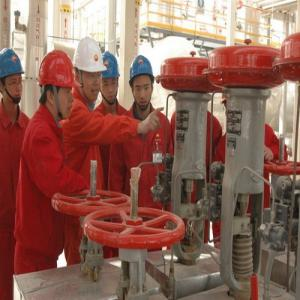blue: (129, 56, 156, 111), (2, 47, 25, 109), (100, 51, 119, 105)
red: (38, 50, 75, 119)
white: (72, 37, 105, 102)
